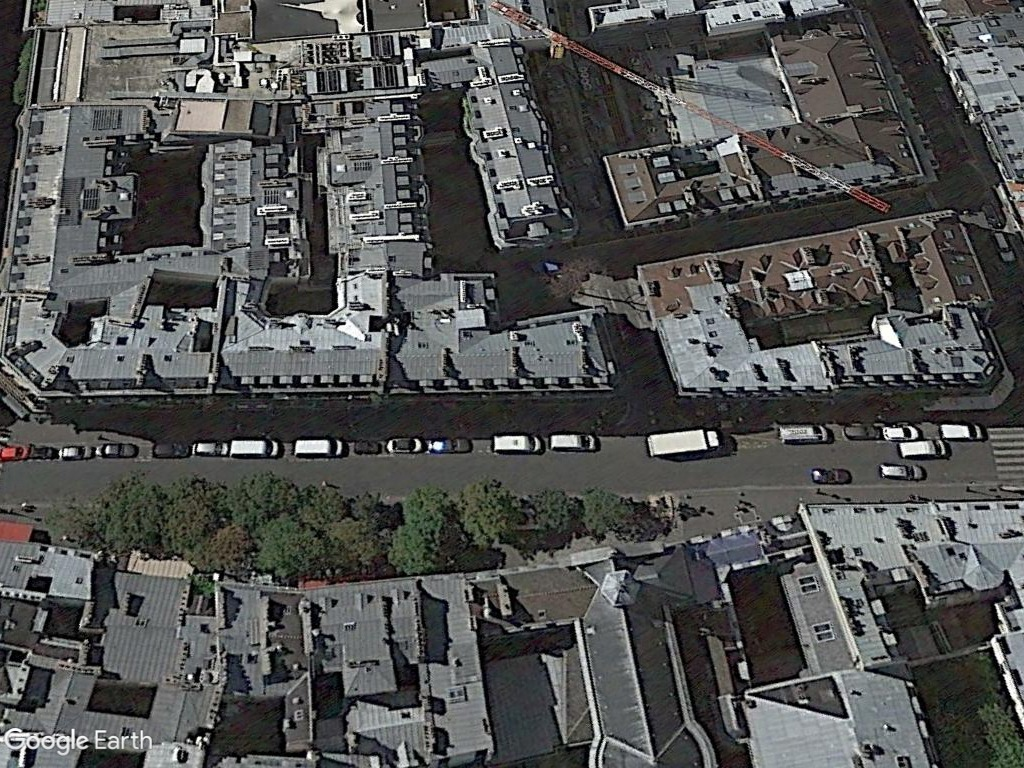car: (876, 460, 929, 482), (806, 464, 855, 486), (427, 436, 476, 454), (837, 421, 880, 441), (189, 439, 233, 457), (879, 423, 922, 440), (384, 436, 424, 454), (95, 444, 142, 459), (150, 441, 194, 457), (26, 442, 61, 461), (58, 443, 95, 460), (350, 438, 384, 456)
truck: (641, 429, 730, 459)
van: (886, 438, 949, 464), (292, 435, 348, 457), (229, 437, 284, 459), (490, 433, 547, 454), (774, 423, 832, 443), (936, 419, 987, 441), (549, 431, 599, 450)
